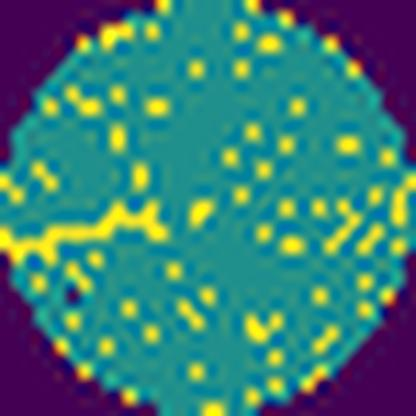Scratch: (0, 196, 170, 274)
